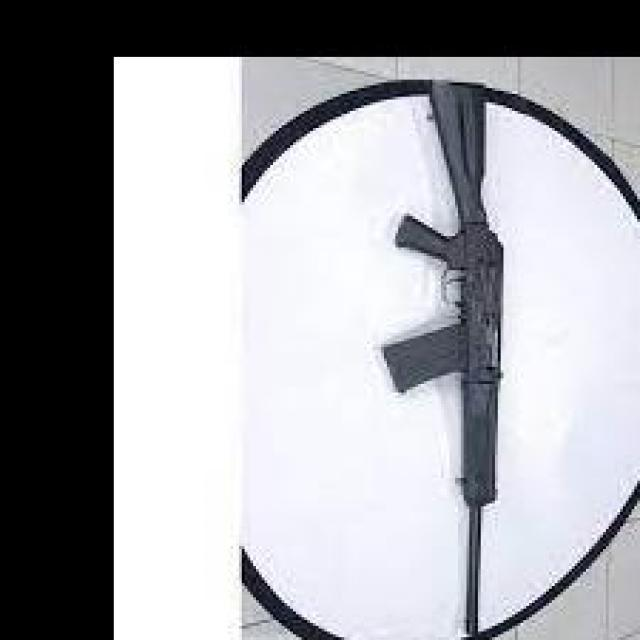weapon: (379, 81, 506, 640)
